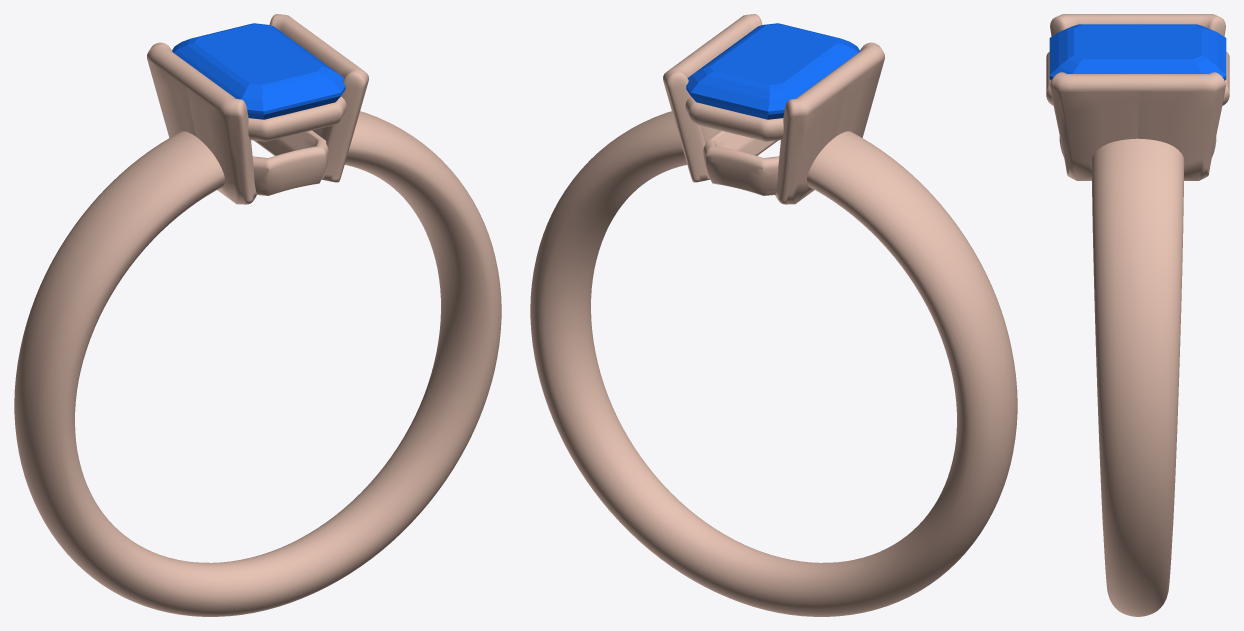
Rendered from bluesapphire-emerald-rosegold-halfmoonbezel-taperedband-solitaire.glb.
The picture shows the model from 3 angles, left to right: view 1: azimuth 30°, elevation 25°; view 2: azimuth 150°, elevation 25°; view 3: azimuth 270°, elevation 25°; orthographic projection.
Visible parts, largest first — view 1: metal, stone; view 2: metal, stone; view 3: metal, stone.
Part boxes in pixels (left/top/right/bottom): metal: left=14, top=14, right=501, bottom=616; stone: left=172, top=23, right=345, bottom=119; metal: left=530, top=14, right=1017, bottom=616; stone: left=686, top=23, right=859, bottom=119; metal: left=1046, top=14, right=1229, bottom=616; stone: left=1049, top=24, right=1226, bottom=80.
Bounding box in the file's own units: 20.5 × 22.94 × 6.94.
